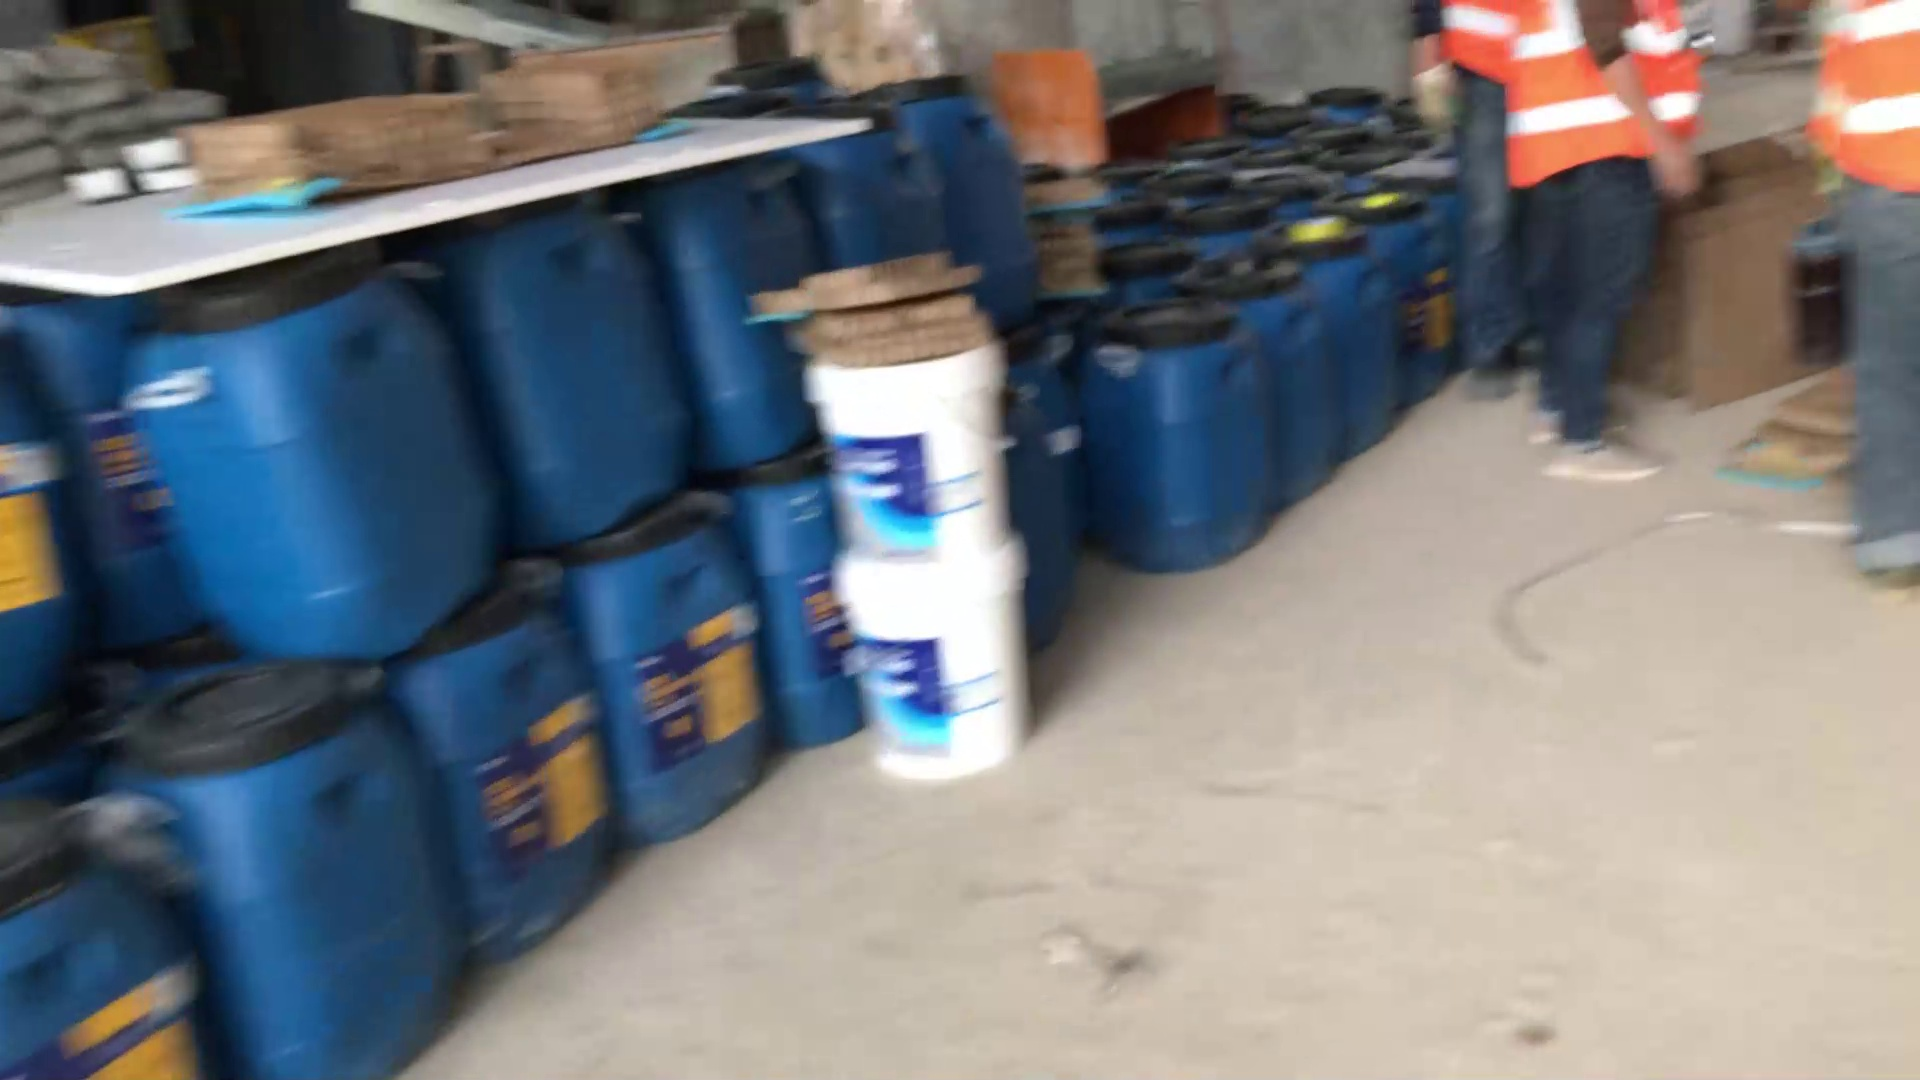person: (1493, 1, 1725, 523), (1784, 1, 1920, 653)
vest: (1500, 1, 1721, 198), (1812, 1, 1918, 187)
